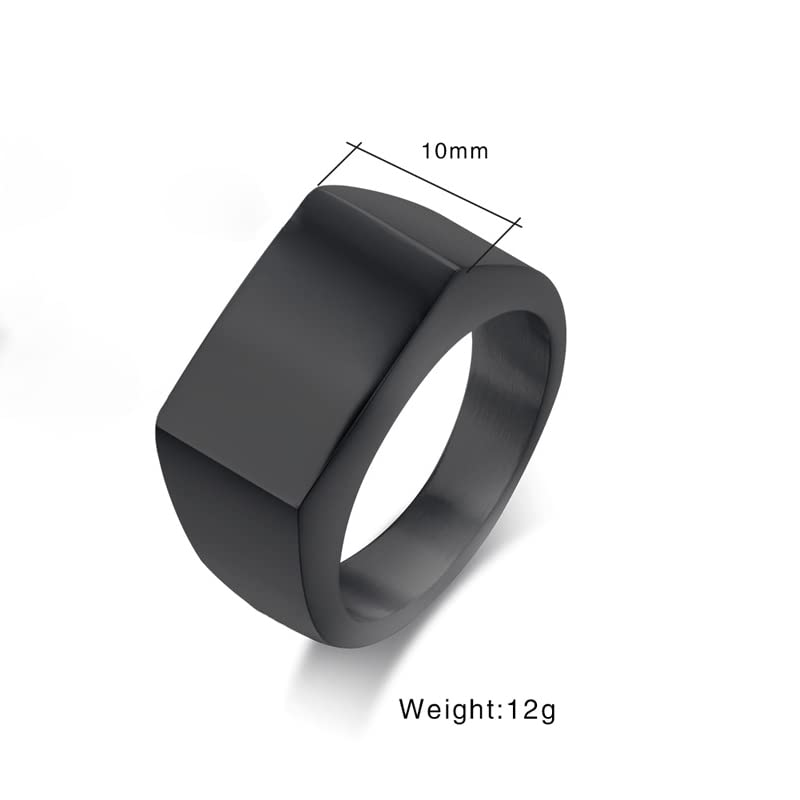Weight:12g: (399, 699, 554, 725)
